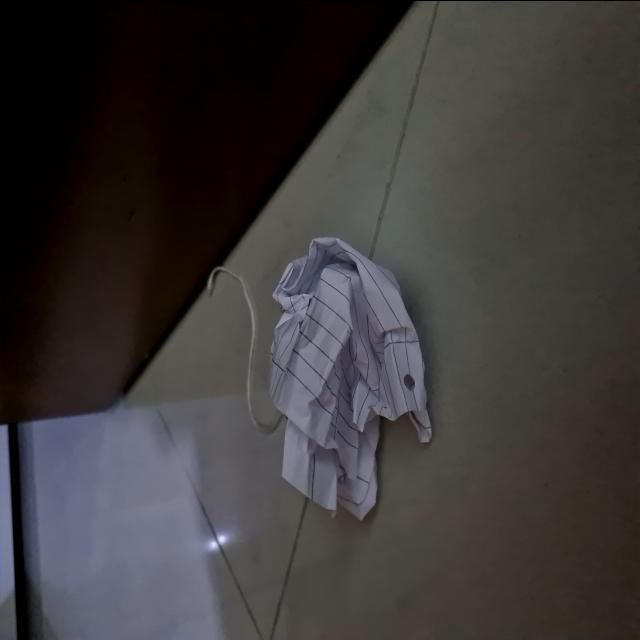Paper: (233, 219, 466, 540)
